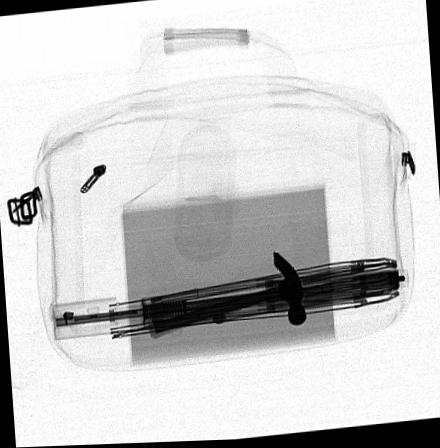Hammer: (146, 251, 306, 339)
